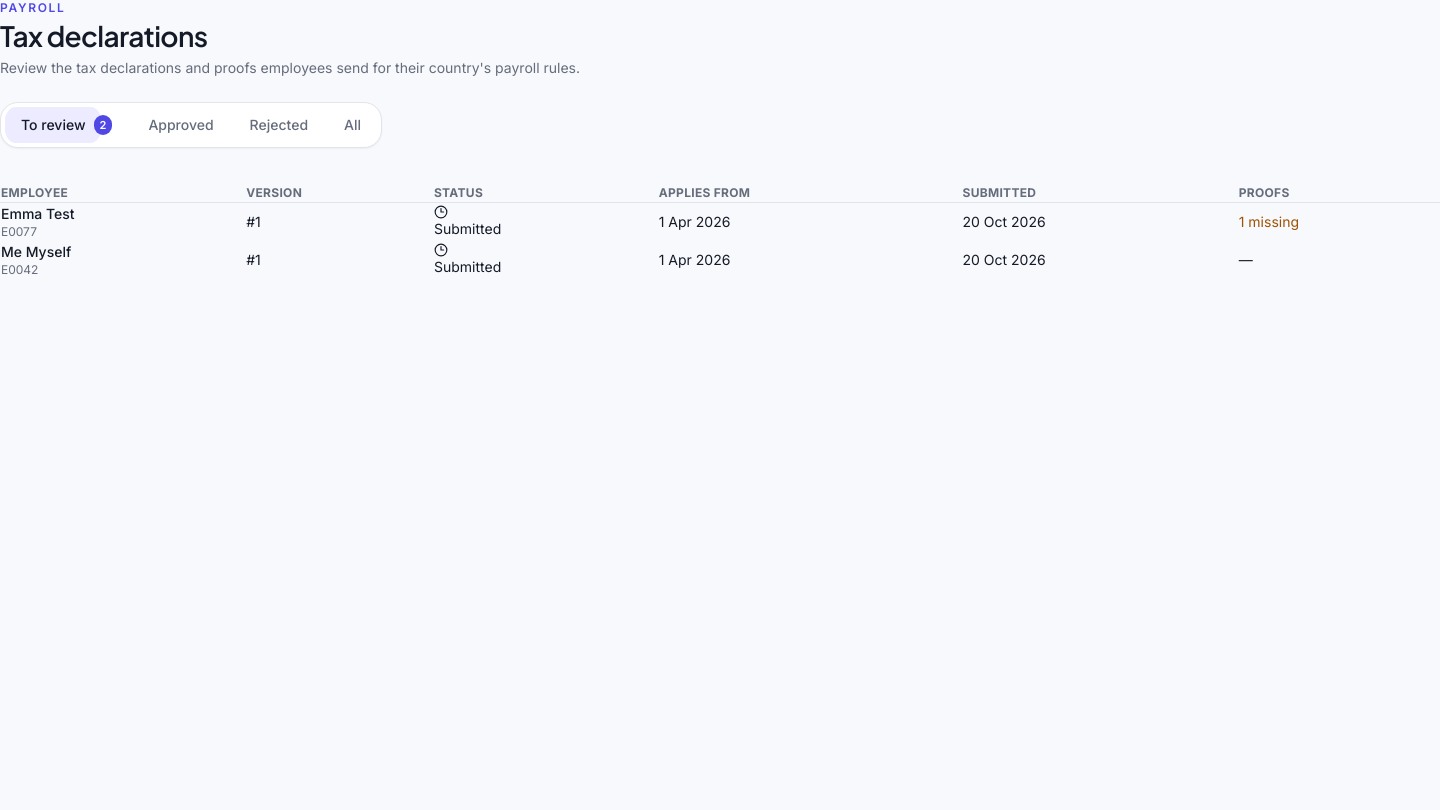
Scenario: Tax declarations review › explains what blocks an approval: a missing proof, or the reviewer's own declarations
This screenshot has width=1440, height=810.
Click the text "Emma Test": point(38, 214) [1,205,75,222]
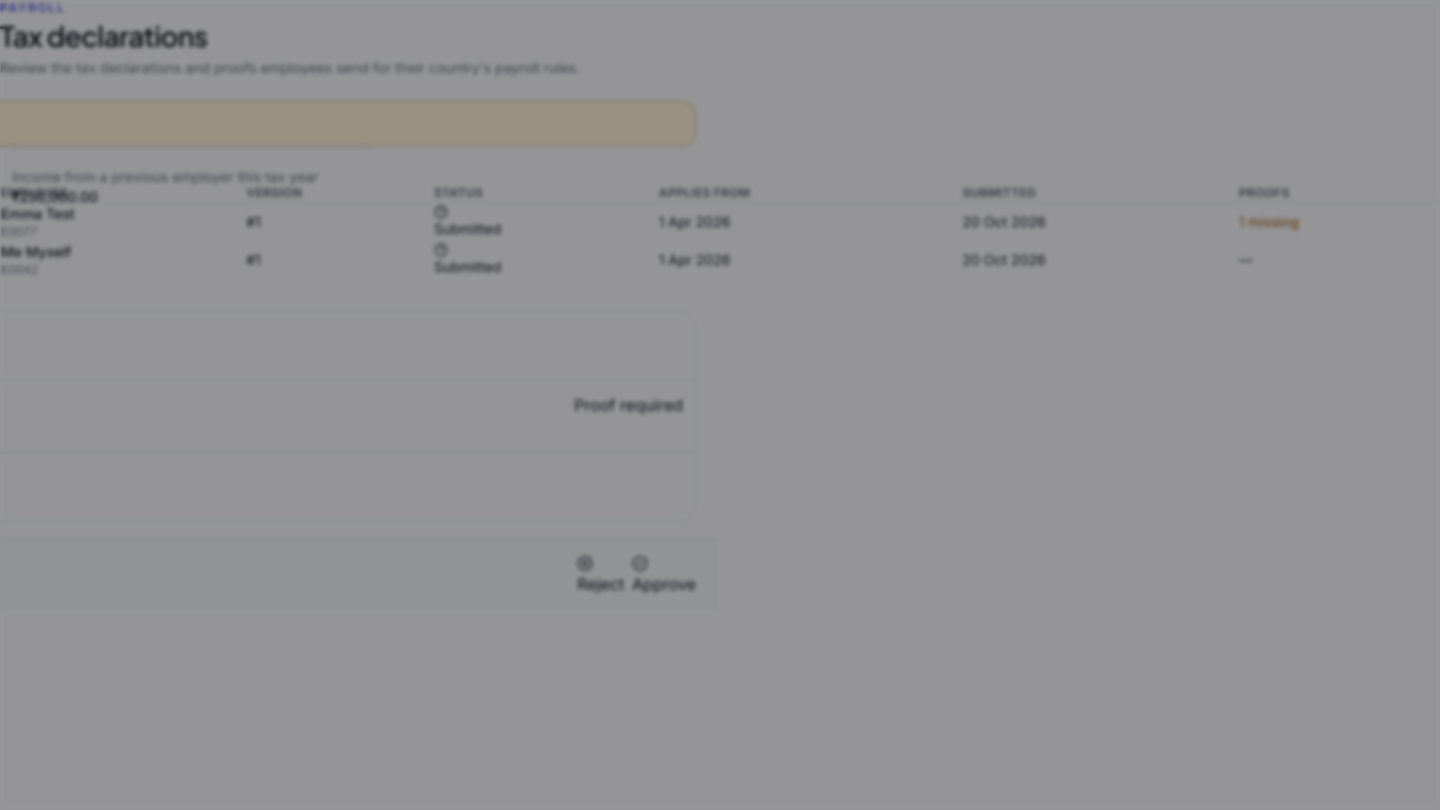
Expected: the button "Approve" is disabled, [632,556,696,596]
Expected: the text "Proof required" is shown, [574,392,683,416]
